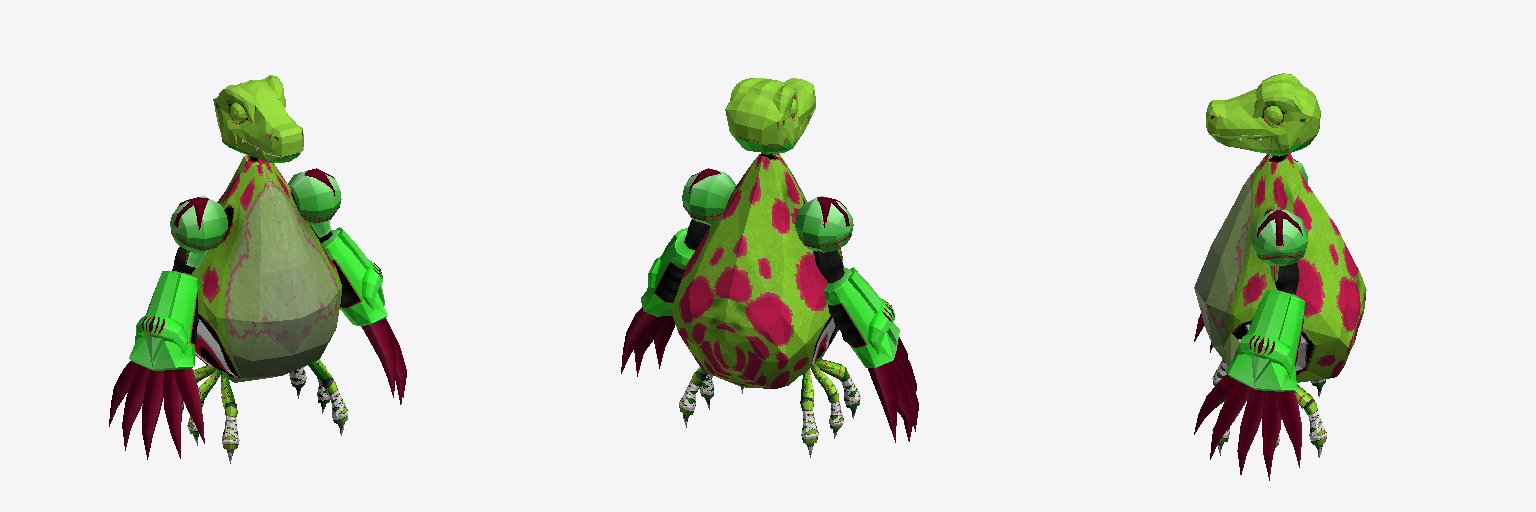
3 views of the same model, side by side, from view 1: azimuth 30°, elevation 25°; view 2: azimuth 150°, elevation 25°; view 3: azimuth 270°, elevation 25° (orthographic).
Visible parts, largest first — view 1: body-0_toy_story_3_dragon.blend.obj.001_body-0_toy_story_3_drago; view 2: body-0_toy_story_3_dragon.blend.obj.001_body-0_toy_story_3_drago; view 3: body-0_toy_story_3_dragon.blend.obj.001_body-0_toy_story_3_drago.
Boxes of the visible parts, <box> form: body-0_toy_story_3_dragon.blend.obj.001_body-0_toy_story_3_drago: <box>109,75,406,463</box>; body-0_toy_story_3_dragon.blend.obj.001_body-0_toy_story_3_drago: <box>621,78,918,457</box>; body-0_toy_story_3_dragon.blend.obj.001_body-0_toy_story_3_drago: <box>1194,73,1366,480</box>.
Size of the model in its own units: 2.8 by 3.33 by 1.51.
Materials: 6 (4 with a texture image).